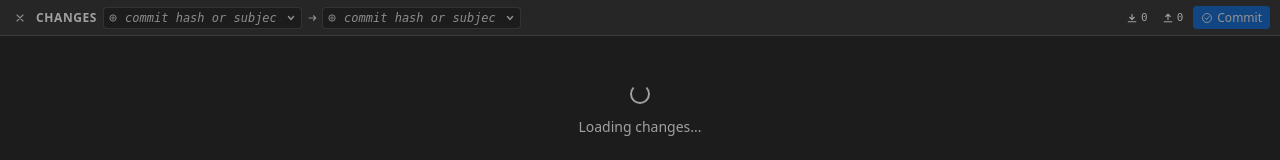
GitStatusPanel: a sync button waiting on the other one names it › names the running push to both buttons
The image size is (1280, 160).
Expected: the 1st button "0" is shown, [1122,6,1152,28]
Click the 2nd button "0": [1172, 18] box [1158,6,1187,28]
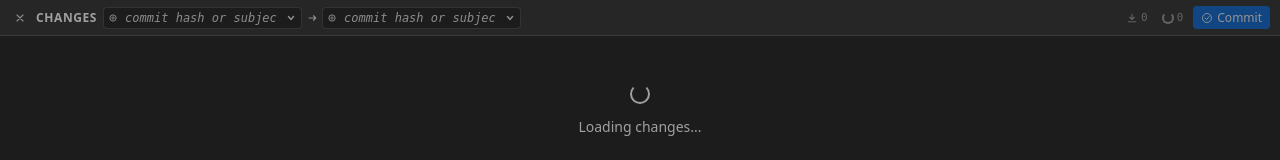
Now the 2nd button "0" is disabled, box [1158,6,1187,28]
Now the 1st button "0" is disabled, box [1122,6,1152,28]
